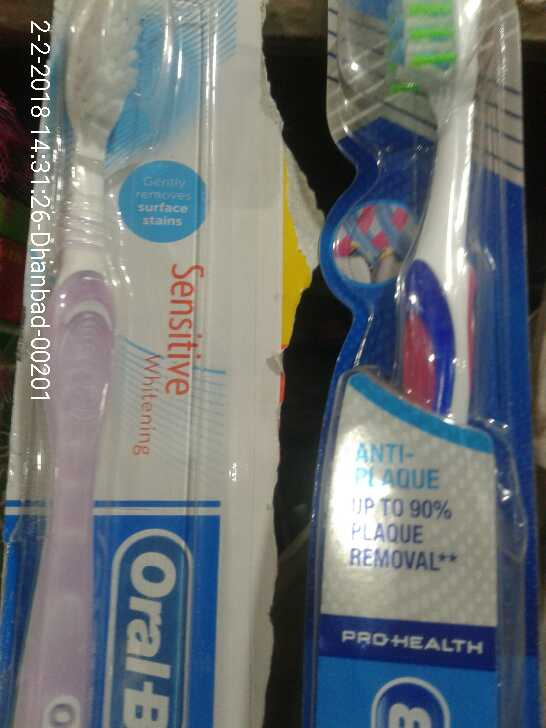oralb: (1, 1, 179, 718), (338, 4, 508, 728)
